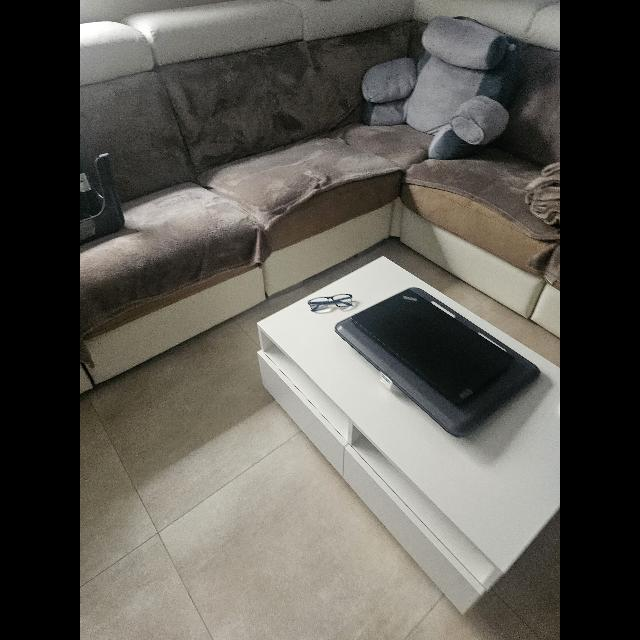glasses: (308, 294, 352, 312)
